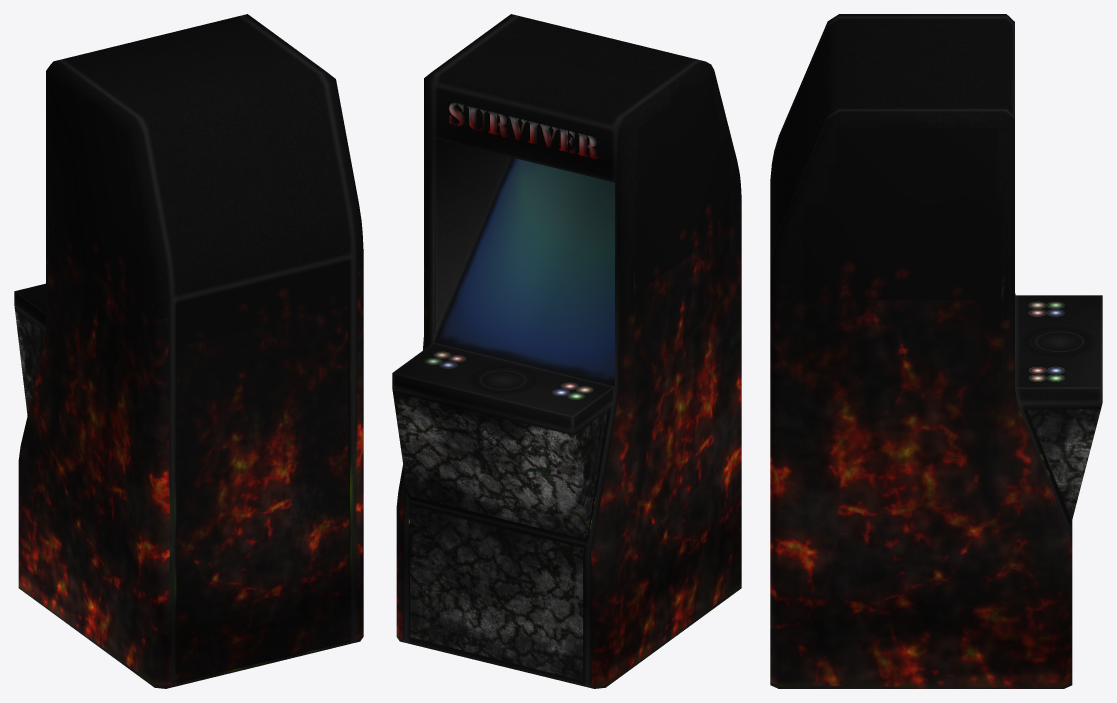
The model's file is surviver.FBX.
3 renders of one model, left to right at view 1: azimuth 30°, elevation 25°; view 2: azimuth 150°, elevation 25°; view 3: azimuth 270°, elevation 25°, orthographic. The views are drawn at different scales.
Parts seen in each view (by area): view 1: gRack; view 2: gRack; view 3: gRack.
Boxes of the visible parts, box(x1,y1,x2,y2) form: gRack: box(14, 14, 363, 688); gRack: box(392, 14, 741, 688); gRack: box(770, 14, 1102, 688).
Size of the model in its own units: 0.7615 by 1.9 by 1.
2 materials, 2 textured.
